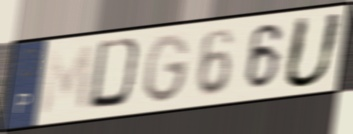6: (242, 22, 286, 93), (195, 26, 235, 100)
D: (86, 35, 147, 112)
G: (143, 31, 193, 106)
M: (38, 42, 96, 119)
U: (280, 10, 347, 91)
